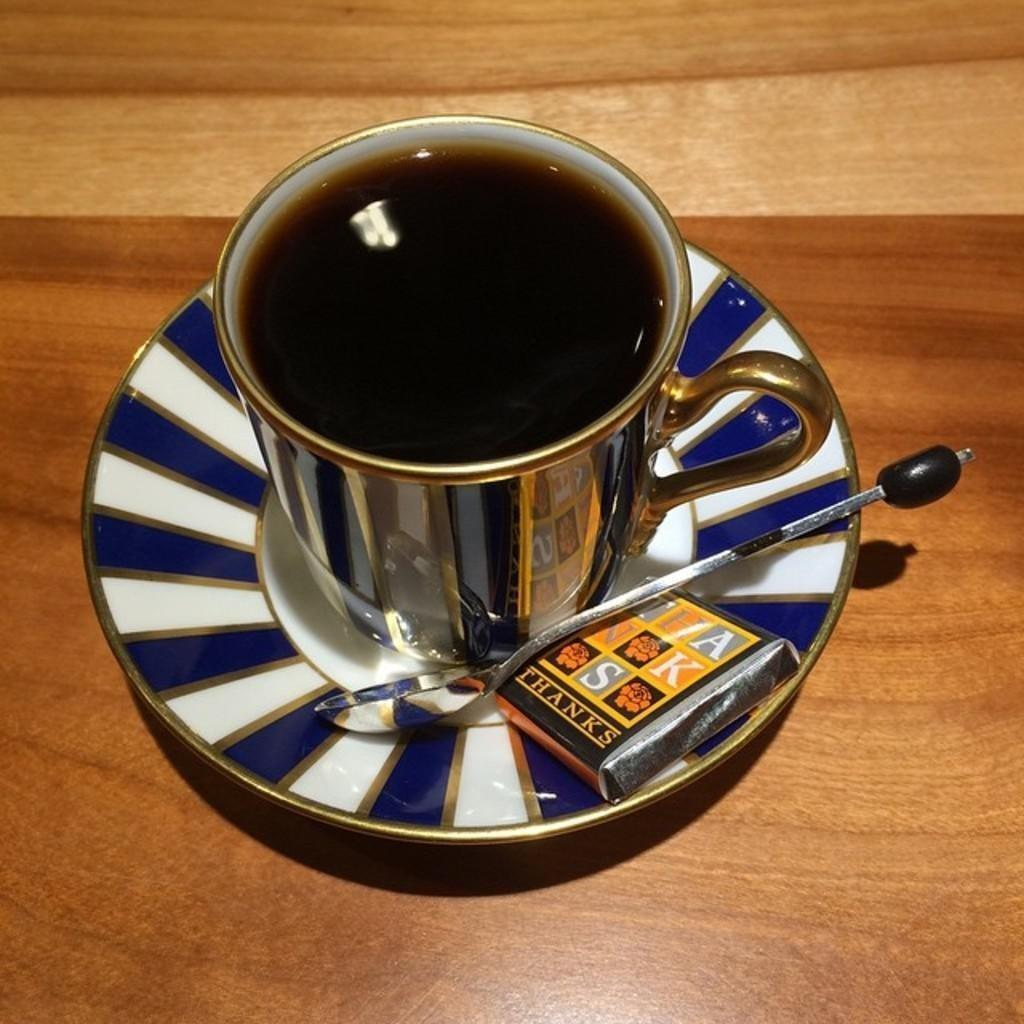cup-handle: (215, 109, 834, 669)
